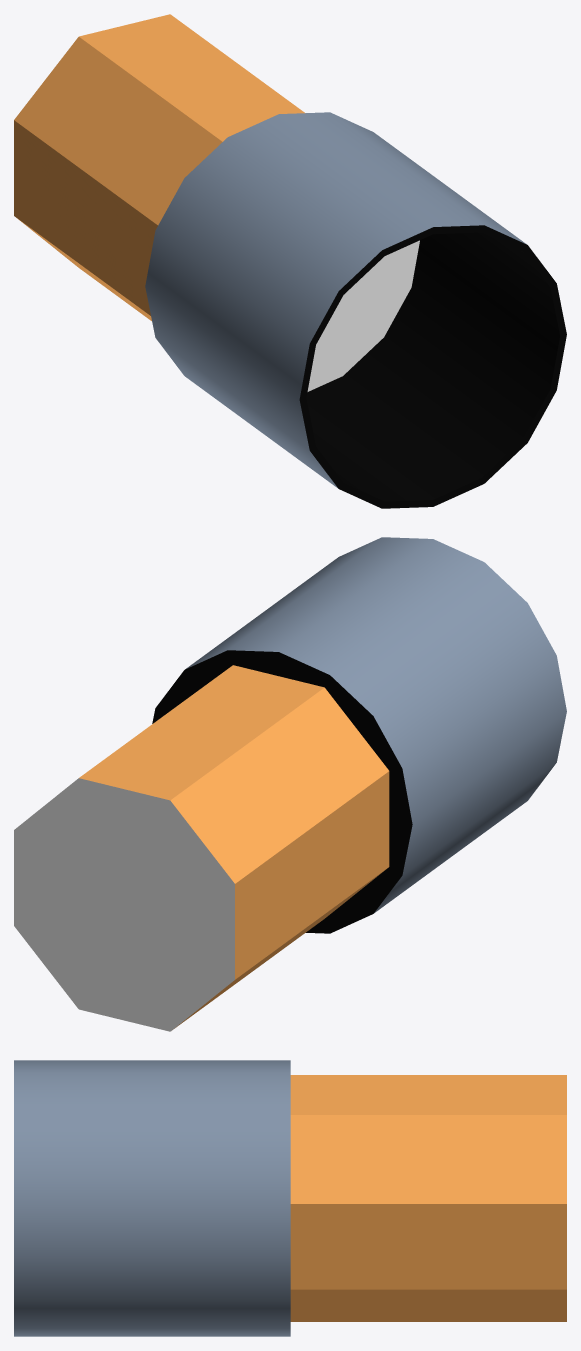
File: Telescope.obj
3 views of the same model, one above another, from view 1: azimuth 30°, elevation 25°; view 2: azimuth 150°, elevation 25°; view 3: azimuth 270°, elevation 25° (orthographic). The views are drawn at different scales.
Visible parts, largest first — view 1: Observatory_SILVER_KAPTON, Observatory_FLAT_BLACK, Observatory_GOLD_KAPTON, Observatory_default2; view 2: Observatory_SILVER_KAPTON, Observatory_GOLD_KAPTON, Observatory_FLAT_WHITE, Observatory_FLAT_BLACK; view 3: Observatory_SILVER_KAPTON, Observatory_GOLD_KAPTON.
Boxes of the visible parts, x1=… form: Observatory_SILVER_KAPTON: x1=145, y1=112, x2=526, y2=488; Observatory_FLAT_BLACK: x1=299, y1=225, x2=566, y2=508; Observatory_GOLD_KAPTON: x1=14, y1=14, x2=305, y2=320; Observatory_default2: x1=307, y1=240, x2=419, y2=391; Observatory_SILVER_KAPTON: x1=185, y1=537, x2=566, y2=913; Observatory_GOLD_KAPTON: x1=79, y1=665, x2=389, y2=1028; Observatory_FLAT_WHITE: x1=14, y1=778, x2=234, y2=1031; Observatory_FLAT_BLACK: x1=152, y1=650, x2=412, y2=933; Observatory_SILVER_KAPTON: x1=14, y1=1060, x2=290, y2=1336; Observatory_GOLD_KAPTON: x1=290, y1=1075, x2=566, y2=1321.
Size of the model in its own units: 2 by 2 by 4.
